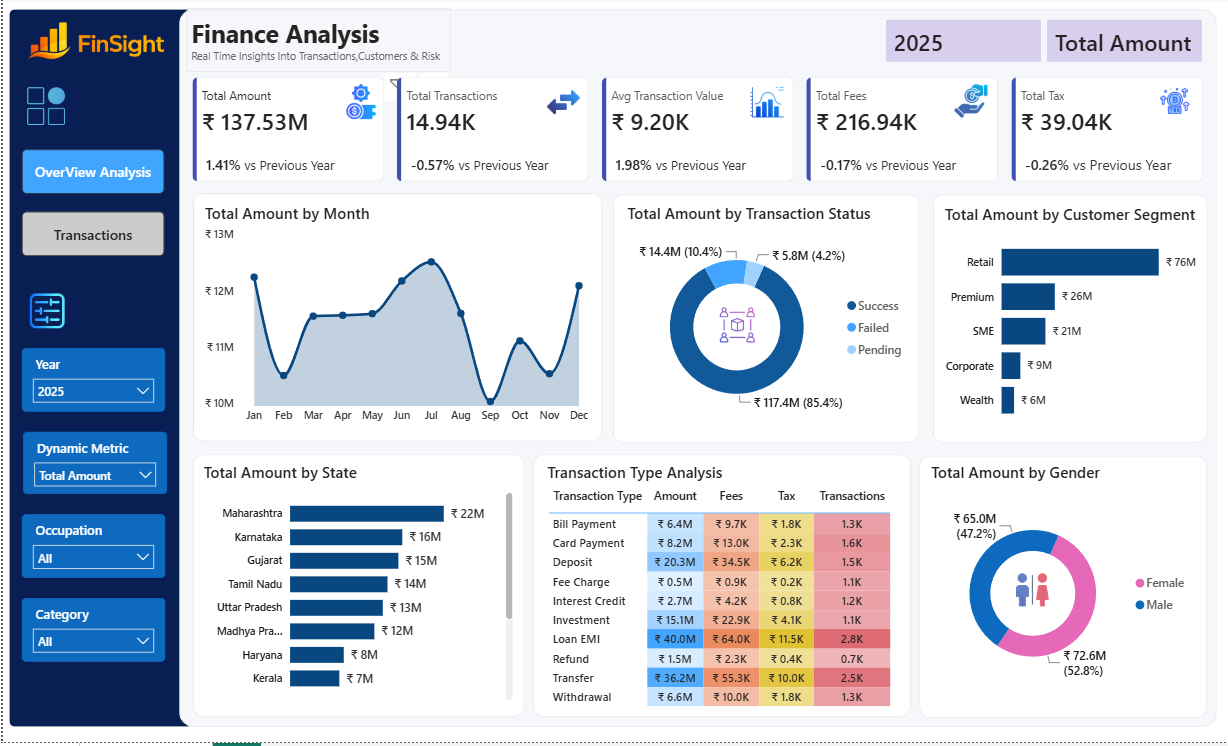

This screenshot's page, from the dashboard's own definition file:
{"tool":"powerbi","page":{"name":"OverView Analysis","canvas":[1400,850],"ordinal":0},"visuals":[{"type":"shape","box":[7.1,12.9,210,820],"z":0},{"type":"shape","box":[201.4,12.9,1185.7,820],"z":1000},{"type":"image","box":[0,12.2,216.7,73.3],"z":2000},{"type":"cardVisual","fields":{"Data":["finance_transactions.DashBoard Title"]},"box":[209.4,11.8,302.4,72.9],"z":3000},{"type":"cardVisual","fields":{"Data":["finance_transactions.Total Amount","finance_transactions.Total Transactions","finance_transactions.Avg Transaction Value","finance_transactions.Total Fees","finance_transactions.Total Tax"]},"box":[210,84.3,1167.1,131.4],"z":4000},{"type":"slicer","fields":{"Values":["Calendar Table.Year"]},"box":[21.2,400,163.8,72.5],"z":5000},{"type":"image","box":[383.9,93.3,50,50.6],"z":6000},{"type":"image","box":[615,93.8,50,50],"z":7000},{"type":"image","box":[1080.8,92.5,50,50],"z":8000},{"type":"image","box":[847.9,93.8,50,50],"z":9000},{"type":"image","box":[1313.8,92.5,50,50],"z":10000},{"type":"slicer","fields":{"Values":["Dynamic Metric.Dynamic Metric"]},"box":[22.5,495.8,165,71.2],"z":11000},{"type":"shape","box":[217.5,222.5,467.5,283.8],"z":12000},{"type":"areaChart","fields":{"Y":["finance_transactions.Total Amount"],"Category":["Calendar Table.Month"]},"box":[225,233.8,451.2,261.2],"z":13000},{"type":"cardVisual","fields":{"Data":["finance_transactions.Selected year","finance_transactions.Selected Dynamic Measure"]},"box":[1004.3,20,372.9,58.6],"z":14000},{"type":"shape","box":[697.5,223.8,350,283.8],"z":15000},{"type":"donutChart","fields":{"Y":["finance_transactions.Total Amount"],"Category":["finance_transactions.transaction_status"]},"box":[708.8,233.8,332.5,261.2],"z":16000},{"type":"shape","box":[1062.5,223.8,313.8,283.8],"z":17000},{"type":"barChart","fields":{"Y":["finance_transactions.Total Amount"],"Category":["customers.customer_segment"]},"box":[1071.2,236.2,297.5,261.2],"z":18000},{"type":"shape","box":[217.6,521.2,378.8,300],"z":19000},{"type":"barChart","fields":{"Y":["finance_transactions.Total Amount"],"Category":["customers.state"]},"box":[224.7,530.6,363.5,277.6],"z":20000},{"type":"shape","box":[605.9,521.2,431.8,300],"z":21000},{"type":"tableEx","title":"Transaction Type Analysis","fields":{"Values":["finance_transactions.transaction_type","finance_transactions.Total Amount","finance_transactions.Total Fees","finance_transactions.Total Tax","finance_transactions.Total Transactions"]},"box":[616.5,530.6,409.4,290.6],"z":22000},{"type":"shape","box":[1047.5,522.5,328.8,300],"z":23000},{"type":"donutChart","fields":{"Y":["finance_transactions.Total Amount"],"Category":["customers.gender"]},"box":[1056.2,530,308.8,278.8],"z":24000},{"type":"image","box":[812.5,347.5,53,53],"z":25000},{"type":"image","box":[1150,650,53,53],"z":26000},{"type":"slicer","fields":{"Values":["customers.occupation"]},"box":[21.2,590.4,163.8,72.5],"z":27000},{"type":"slicer","fields":{"Values":["finance_transactions.merchant_category"]},"box":[21.2,686.2,163.8,72.5],"z":28000},{"type":"pageNavigator","box":[21.2,172.5,163.8,122.5],"z":29000},{"type":"image","box":[22.5,97.5,53,53],"z":29001},{"type":"image","box":[22.5,330,55,55],"z":29002}]}

Visuals, with their boxes on the page's 1400x850 design canvas (x1, y1, x2, y2). These are canvas units, not pixel positions in the 1228x746 screenshot, which may show the page scaled, cropped or inside an application window:
shape: 7,13,217,833
shape: 201,13,1387,833
image: 0,12,217,86
cardVisual - finance_transactions.DashBoard Title: 209,12,512,85
cardVisual - finance_transactions.Total Amount x finance_transactions.Total Transactions: 210,84,1377,216
slicer - Calendar Table.Year: 21,400,185,472
image: 384,93,434,144
image: 615,94,665,144
image: 1081,92,1131,142
image: 848,94,898,144
image: 1314,92,1364,142
slicer - Dynamic Metric.Dynamic Metric: 22,496,188,567
shape: 218,222,685,506
areaChart - finance_transactions.Total Amount x Calendar Table.Month: 225,234,676,495
cardVisual - finance_transactions.Selected year x finance_transactions.Selected Dynamic Measure: 1004,20,1377,79
shape: 698,224,1048,508
donutChart - finance_transactions.Total Amount x finance_transactions.transaction_status: 709,234,1041,495
shape: 1062,224,1376,508
barChart - finance_transactions.Total Amount x customers.customer_segment: 1071,236,1369,497
shape: 218,521,596,821
barChart - finance_transactions.Total Amount x customers.state: 225,531,588,808
shape: 606,521,1038,821
"Transaction Type Analysis" tableEx: 616,531,1026,821
shape: 1048,522,1376,822
donutChart - finance_transactions.Total Amount x customers.gender: 1056,530,1365,809
image: 812,348,866,400
image: 1150,650,1203,703
slicer - customers.occupation: 21,590,185,663
slicer - finance_transactions.merchant_category: 21,686,185,759
pageNavigator: 21,172,185,295
image: 22,98,76,150
image: 22,330,78,385
